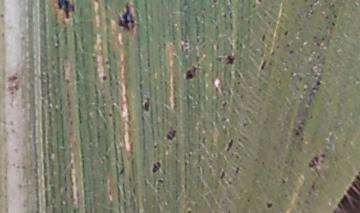tarspot: (117, 2, 137, 32), (55, 1, 76, 20), (183, 64, 198, 82), (165, 126, 177, 143), (307, 154, 319, 170), (150, 160, 162, 175), (142, 95, 151, 113), (225, 54, 236, 67), (225, 138, 234, 153), (6, 83, 21, 91), (7, 74, 19, 83), (258, 59, 266, 71), (264, 200, 273, 210), (278, 176, 287, 186), (137, 81, 145, 91), (118, 166, 125, 177), (156, 177, 165, 185), (310, 180, 316, 192), (219, 115, 228, 123), (219, 170, 226, 180), (214, 55, 222, 63), (260, 33, 267, 42), (315, 79, 322, 88), (297, 75, 303, 85), (201, 135, 207, 145), (101, 74, 108, 82), (220, 100, 227, 108), (256, 86, 263, 94), (294, 85, 301, 93), (319, 152, 327, 159), (63, 77, 70, 85), (330, 20, 337, 27), (323, 14, 330, 21), (221, 12, 228, 19), (310, 33, 317, 40), (319, 35, 326, 42), (233, 153, 240, 160), (282, 158, 289, 165), (283, 29, 289, 37), (294, 130, 300, 138), (332, 12, 338, 20), (241, 122, 249, 128), (228, 11, 234, 19), (53, 31, 61, 37), (53, 44, 61, 50), (55, 36, 60, 45), (195, 37, 200, 46), (103, 59, 110, 65), (152, 143, 158, 150), (287, 49, 294, 55), (269, 50, 275, 57), (214, 24, 220, 31), (107, 111, 113, 118), (315, 41, 321, 48), (161, 32, 167, 39), (245, 197, 251, 204), (267, 60, 273, 67), (236, 79, 242, 86), (330, 2, 336, 9), (234, 166, 239, 174), (289, 70, 294, 78), (236, 136, 242, 142), (131, 185, 135, 194), (1, 12, 6, 19), (226, 180, 233, 185), (260, 159, 265, 166), (182, 38, 189, 43), (182, 43, 189, 48), (185, 209, 193, 213), (316, 54, 321, 60), (308, 114, 314, 119), (256, 1, 264, 4), (225, 209, 230, 213), (212, 1, 218, 4), (302, 1, 308, 3)
